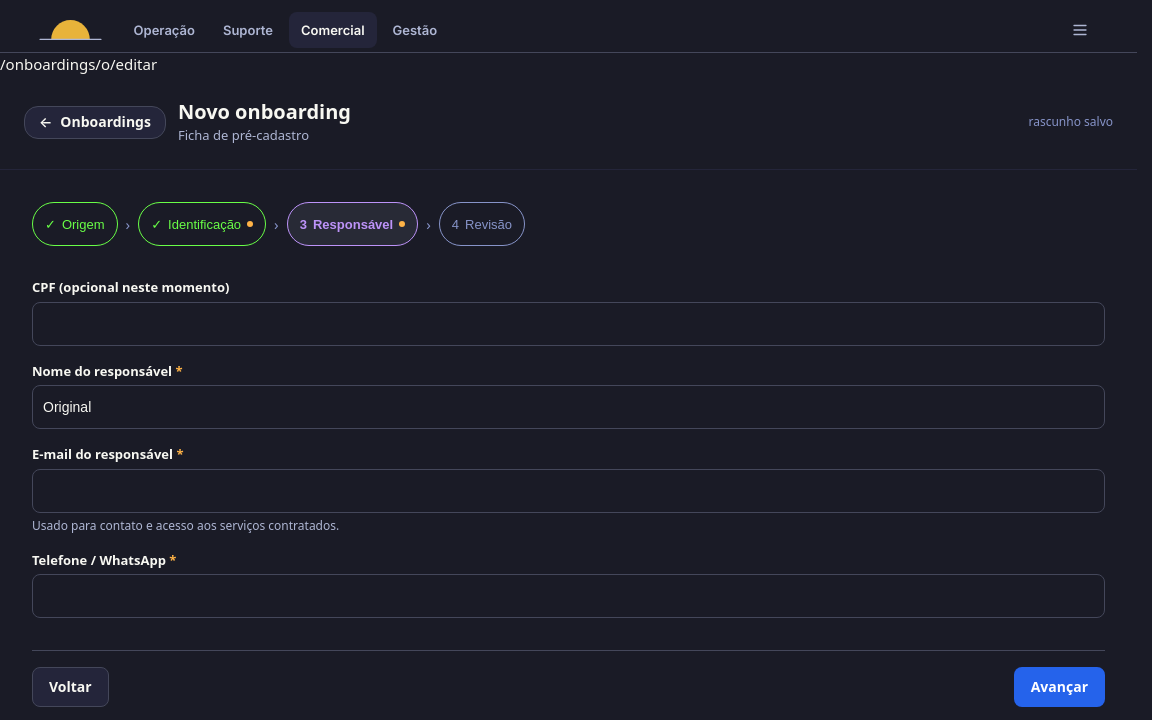
Test case: Descartar no menu/detalhe false não salva antes da escolha nem depois de 800ms
Replace the text in the field showing "Original" with "Editado" at {"x": 568, "y": 407}, box [32,385,1105,429]
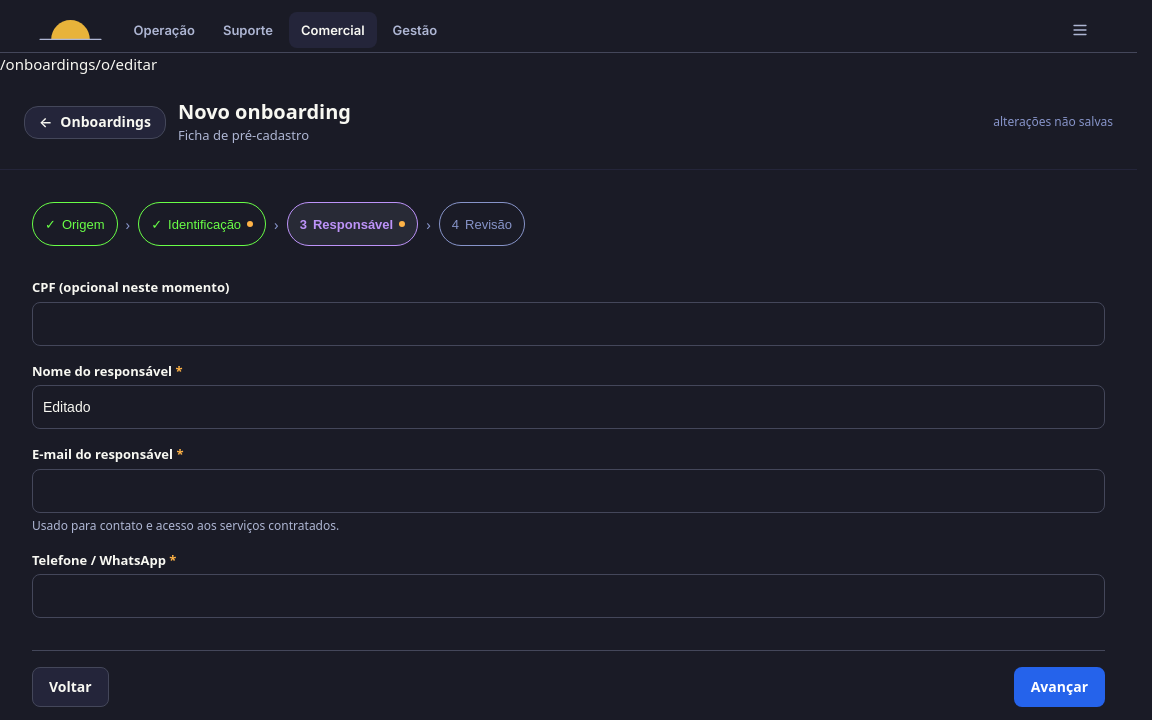
Click the link "Comercial".
click(333, 30)  # box [289,12,376,48]
Wait 1600 ms
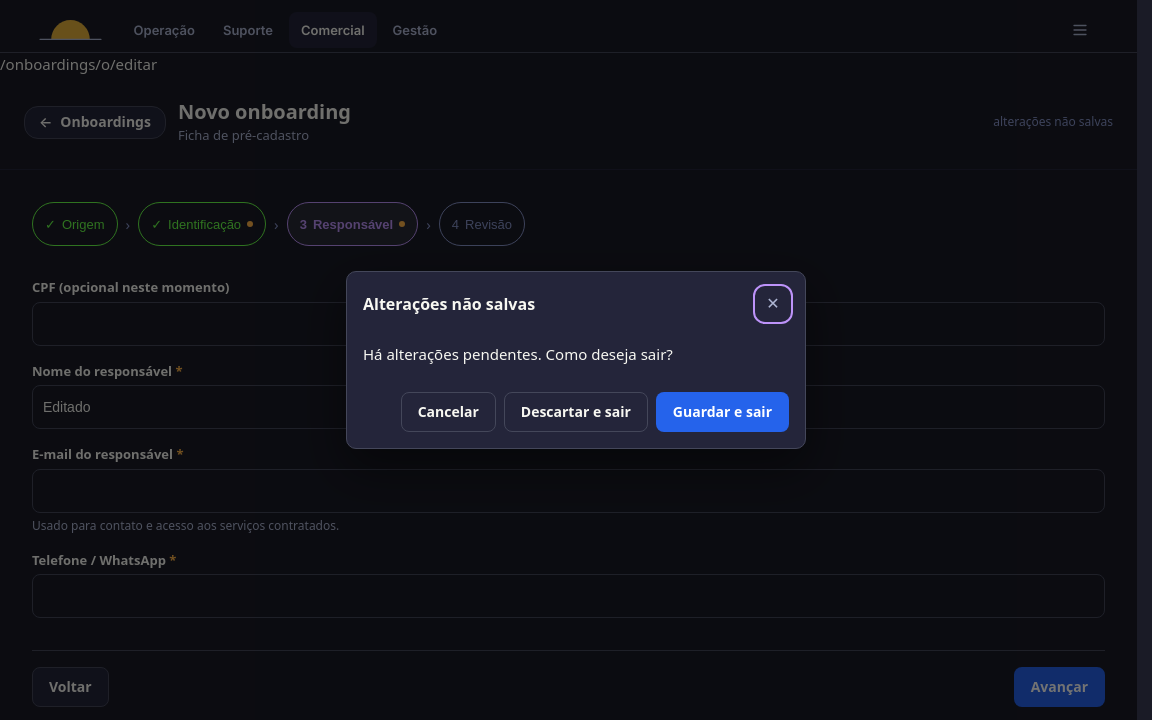
Check: the dialog "Alterações não salvas" is shown
Click the button "Descartar e sair".
click(576, 412)  # box [504,392,648,432]
Wait 1600 ms
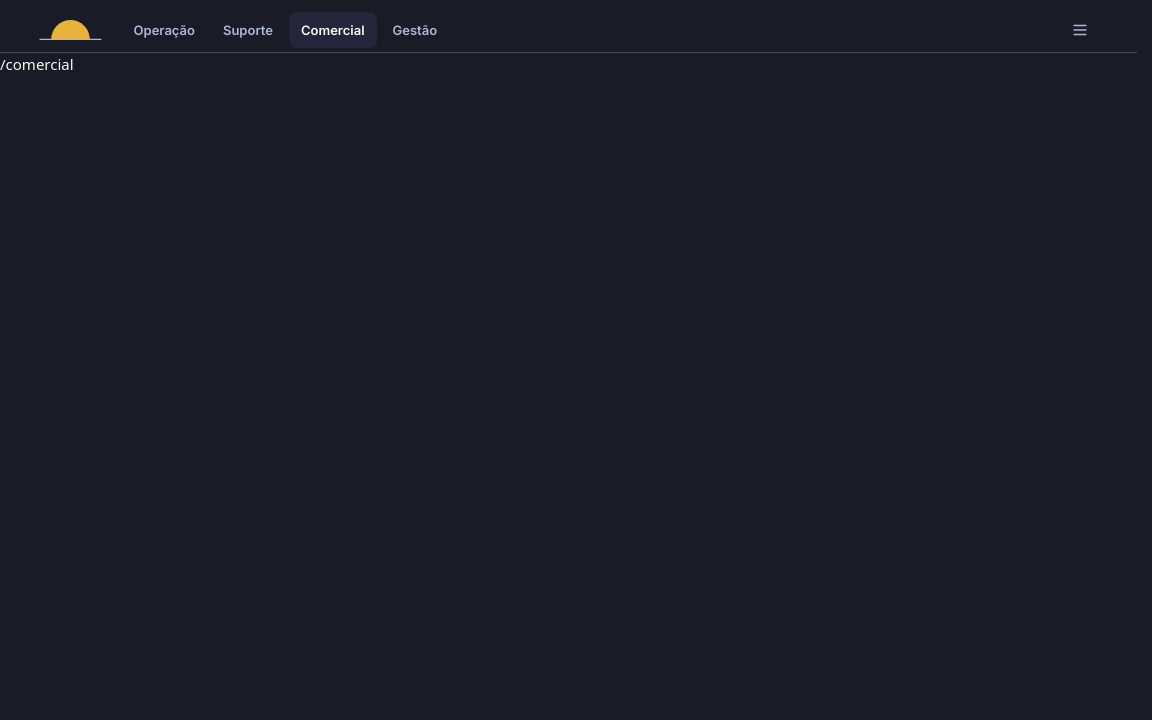
Check: the text with test id "rota" reads "/comercial", box [0,54,74,74]
